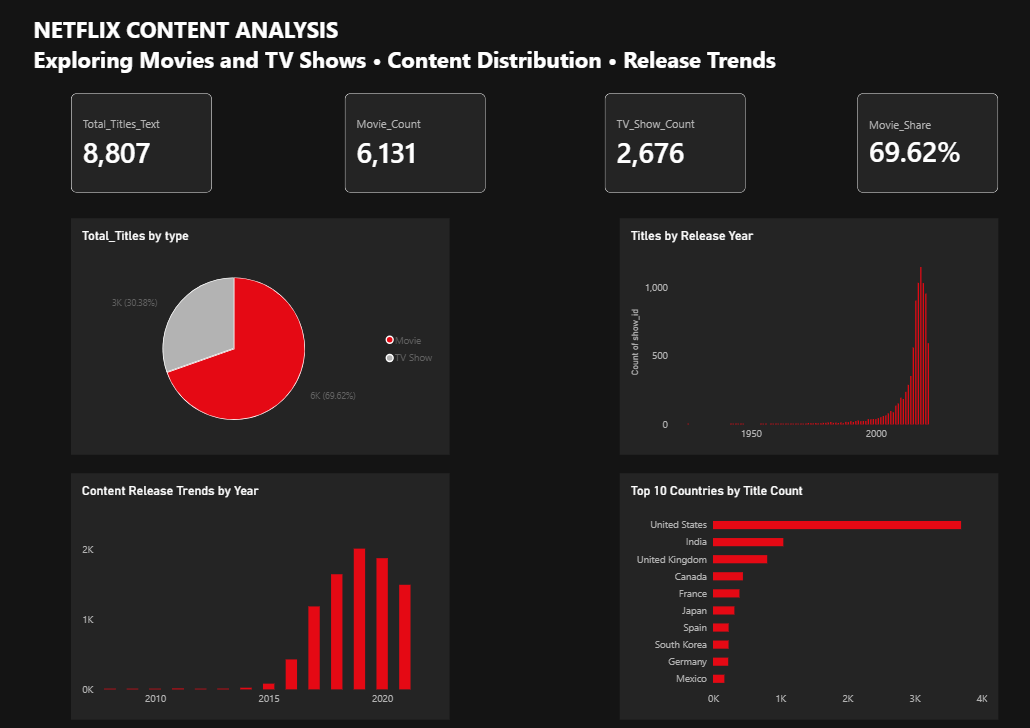

The dashboard page shown, as its layout file describes it:
{"tool":"powerbi","page":{"name":"Page 1","canvas":[1920,1080],"ordinal":0},"visuals":[{"type":"cardVisual","fields":{"Data":["netflix_titles.Movie_Count"]},"box":[700.3,153.8,204.5,144.8],"z":0},{"type":"cardVisual","fields":{"Data":["netflix_titles.Movie_Share"]},"box":[1442.3,153.8,204.5,144.8],"z":1},{"type":"cardVisual","fields":{"Data":["netflix_titles.TV_Show_Count"]},"box":[1076.7,153.8,204.5,144.8],"z":2},{"type":"clusteredColumnChart","title":"Titles by Release Year","fields":{"Category":["netflix_titles.release_year"],"Y":["CountNonNull(netflix_titles.show_id)"]},"box":[1098.5,334.8,548.3,342],"z":8},{"type":"clusteredColumnChart","title":"Content Release Trends by Year","fields":{"Category":["netflix_titles.date_added.Variation.Date Hierarchy.Year","netflix_titles.date_added.Variation.Date Hierarchy.Quarter","netflix_titles.date_added.Variation.Date Hierarchy.Month","netflix_titles.date_added.Variation.Date Hierarchy.Day"],"Y":["CountNonNull(netflix_titles.show_id)"]},"box":[304,704,548.3,356.5],"z":9},{"type":"clusteredBarChart","title":"Top 10 Countries by Title Count","fields":{"Category":["Netflix_Countries.country"],"Y":["Netflix_Countries.Country Titles"]},"box":[1098.5,704,548.3,356.5],"z":10},{"type":"cardVisual","fields":{"Data":["netflix_titles.Total_Titles"]},"box":[304,153.8,204.5,144.8],"z":12},{"type":"pieChart","fields":{"Category":["netflix_titles.type"],"Y":["netflix_titles.Total_Titles"]},"box":[304,334.8,548.3,342],"z":13},{"type":"textbox","box":[249.7,39.8,1105.7,114],"z":14}]}

Visuals, with their boxes on the page's 1920x1080 design canvas (x1, y1, x2, y2). These are canvas units, not pixel positions in the 1030x728 screenshot, which may show the page scaled, cropped or inside an application window:
cardVisual - netflix_titles.Movie_Count: 700 154 905 299
cardVisual - netflix_titles.Movie_Share: 1442 154 1647 299
cardVisual - netflix_titles.TV_Show_Count: 1077 154 1281 299
"Titles by Release Year" clusteredColumnChart: 1098 335 1647 677
"Content Release Trends by Year" clusteredColumnChart: 304 704 852 1060
"Top 10 Countries by Title Count" clusteredBarChart: 1098 704 1647 1060
cardVisual - netflix_titles.Total_Titles: 304 154 508 299
pieChart - netflix_titles.type x netflix_titles.Total_Titles: 304 335 852 677
textbox: 250 40 1355 154
